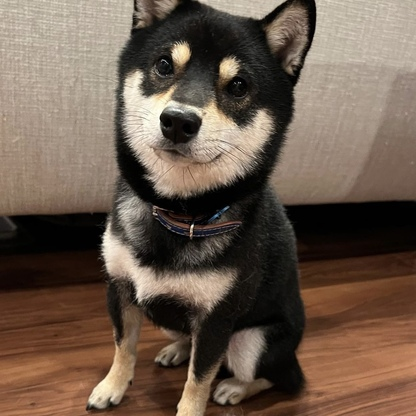shiba: (76, 1, 324, 416)
